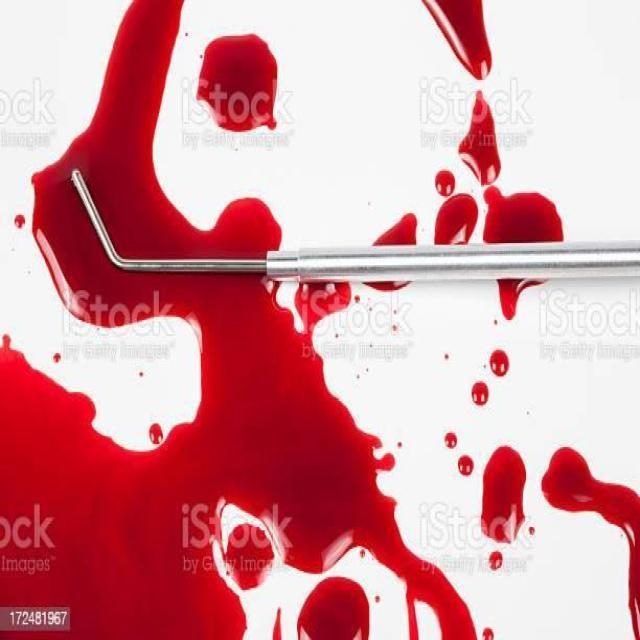flood: (0, 337, 244, 640), (25, 116, 287, 323), (249, 328, 399, 568), (90, 2, 186, 112)
